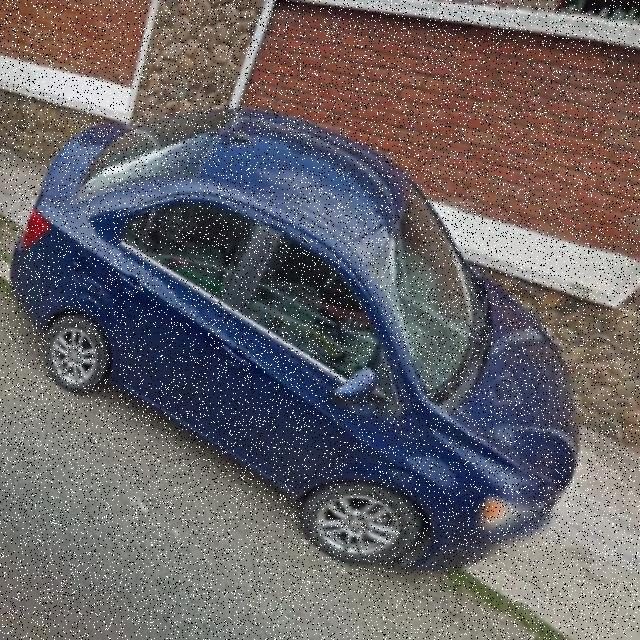cars: (26, 65, 582, 580)
